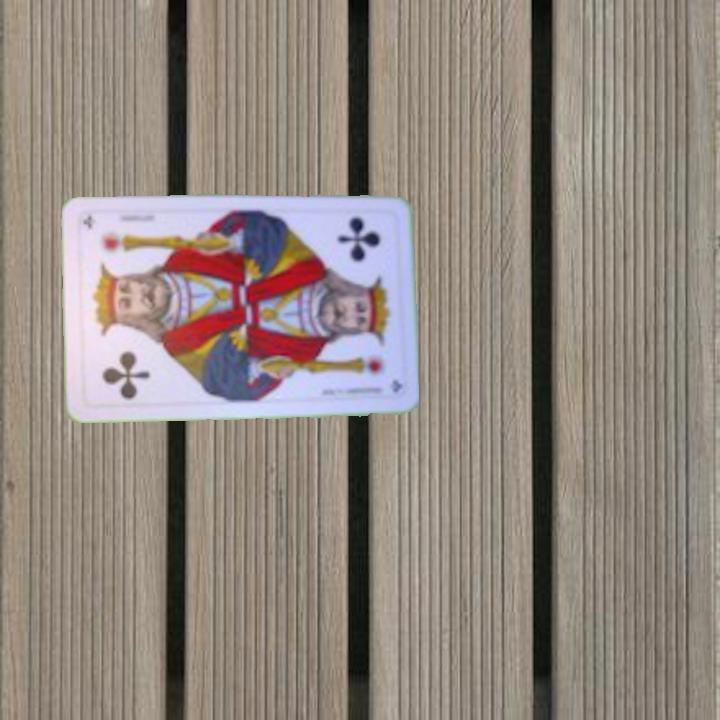c_k.png: (78, 305, 167, 406), (312, 205, 400, 307)
